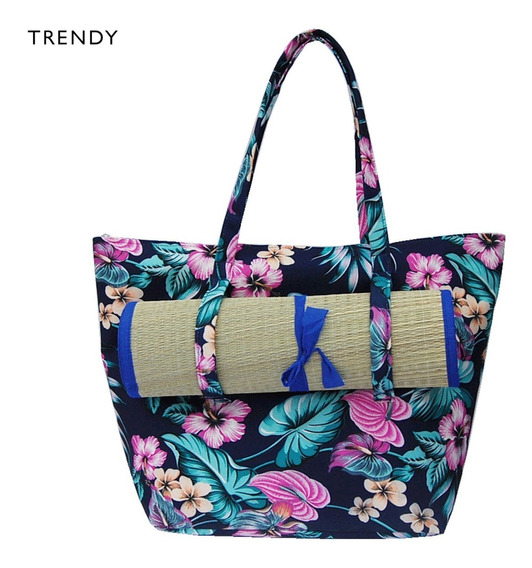cartera: (91, 28, 511, 533)
